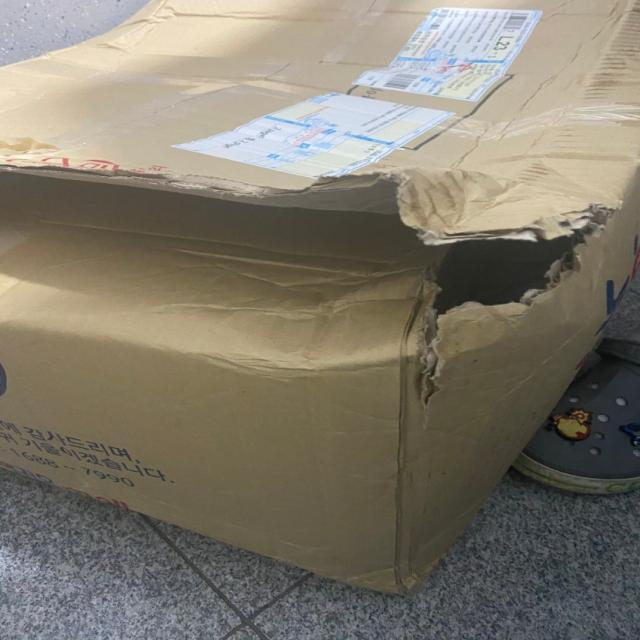hole: (409, 196, 607, 340)
